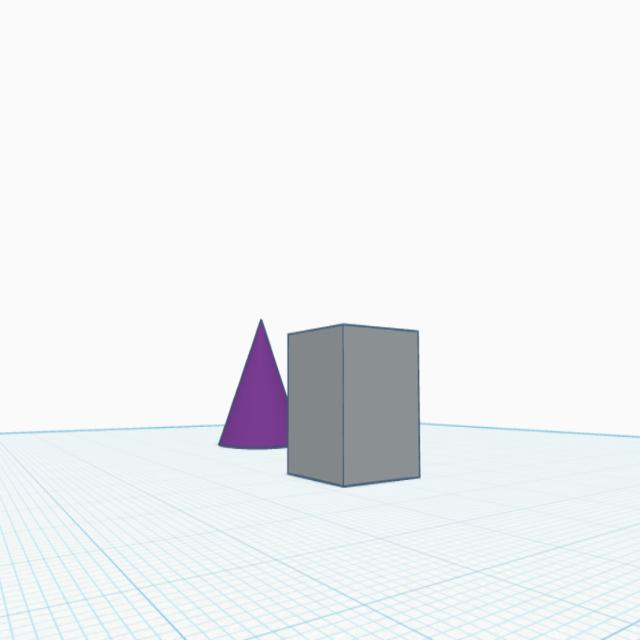cube: (284, 324, 425, 488)
